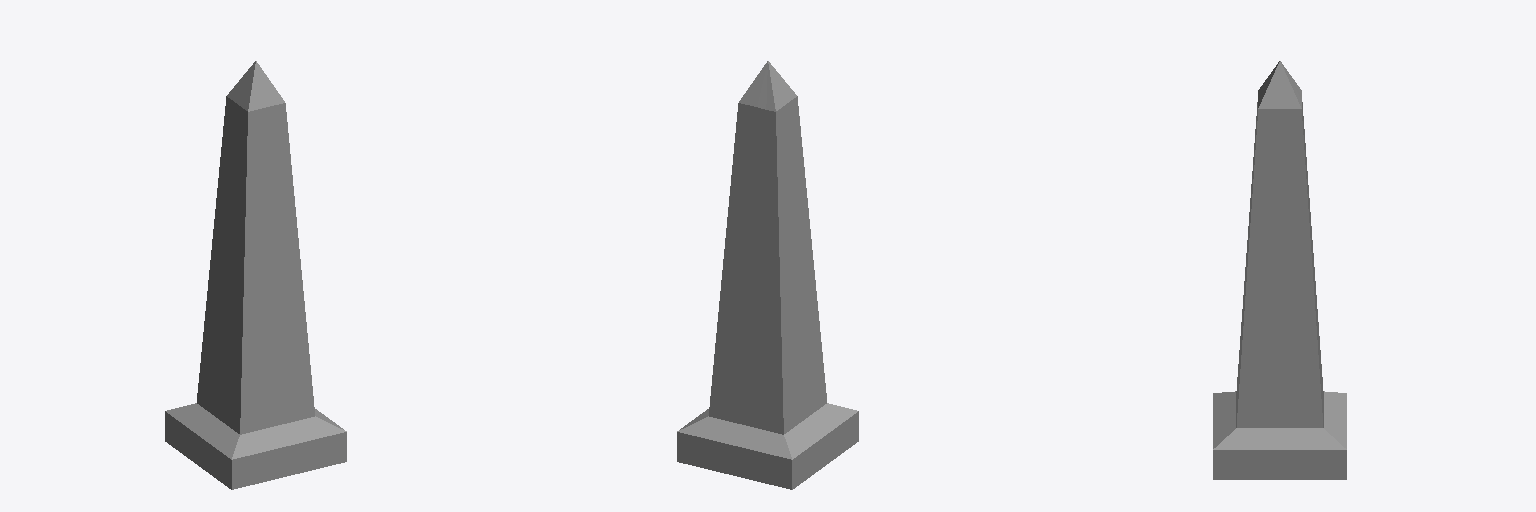
File: obelisk.obj
3 views of the same model, side by side, from view 1: azimuth 30°, elevation 25°; view 2: azimuth 150°, elevation 25°; view 3: azimuth 270°, elevation 25° (orthographic).
Parts seen in each view (by area): view 1: Cube; view 2: Cube; view 3: Cube.
Part boxes in pixels (bbox=[...]): Cube: bbox=[165, 61, 346, 489]; Cube: bbox=[677, 61, 858, 489]; Cube: bbox=[1213, 61, 1346, 479].
Bounding box in the file's own units: 1.56 × 5.06 × 1.56.